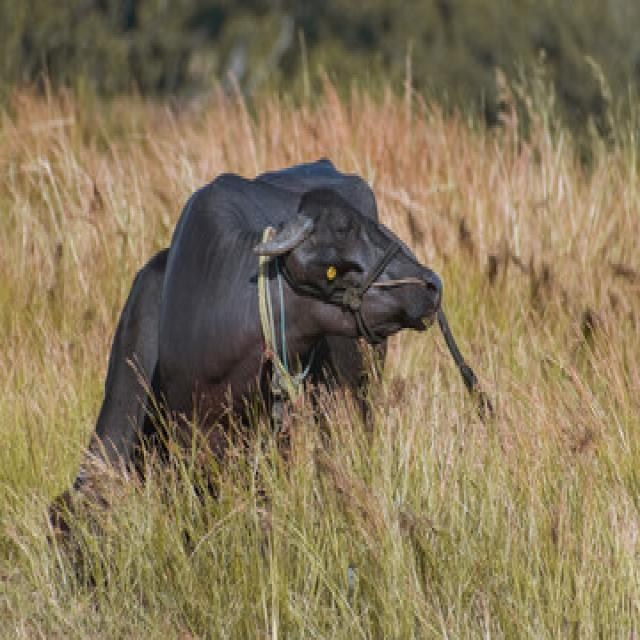Buffalo: (45, 152, 495, 579)
